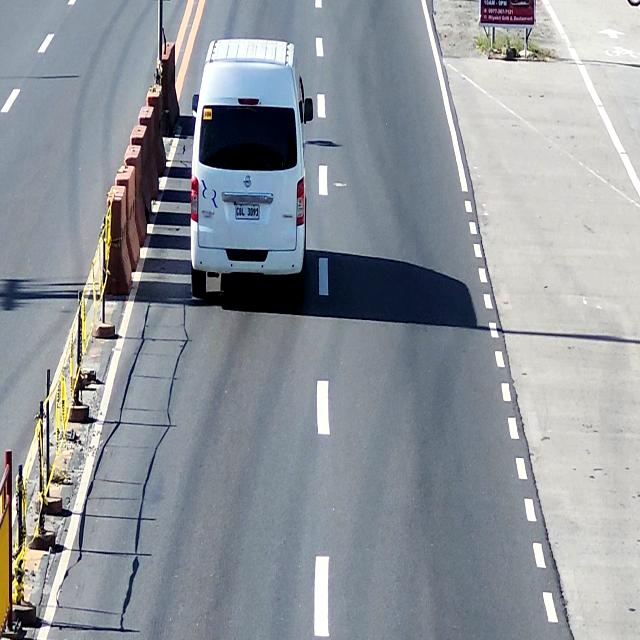Car: (192, 37, 309, 308)
License-Plate: (235, 201, 262, 225)
